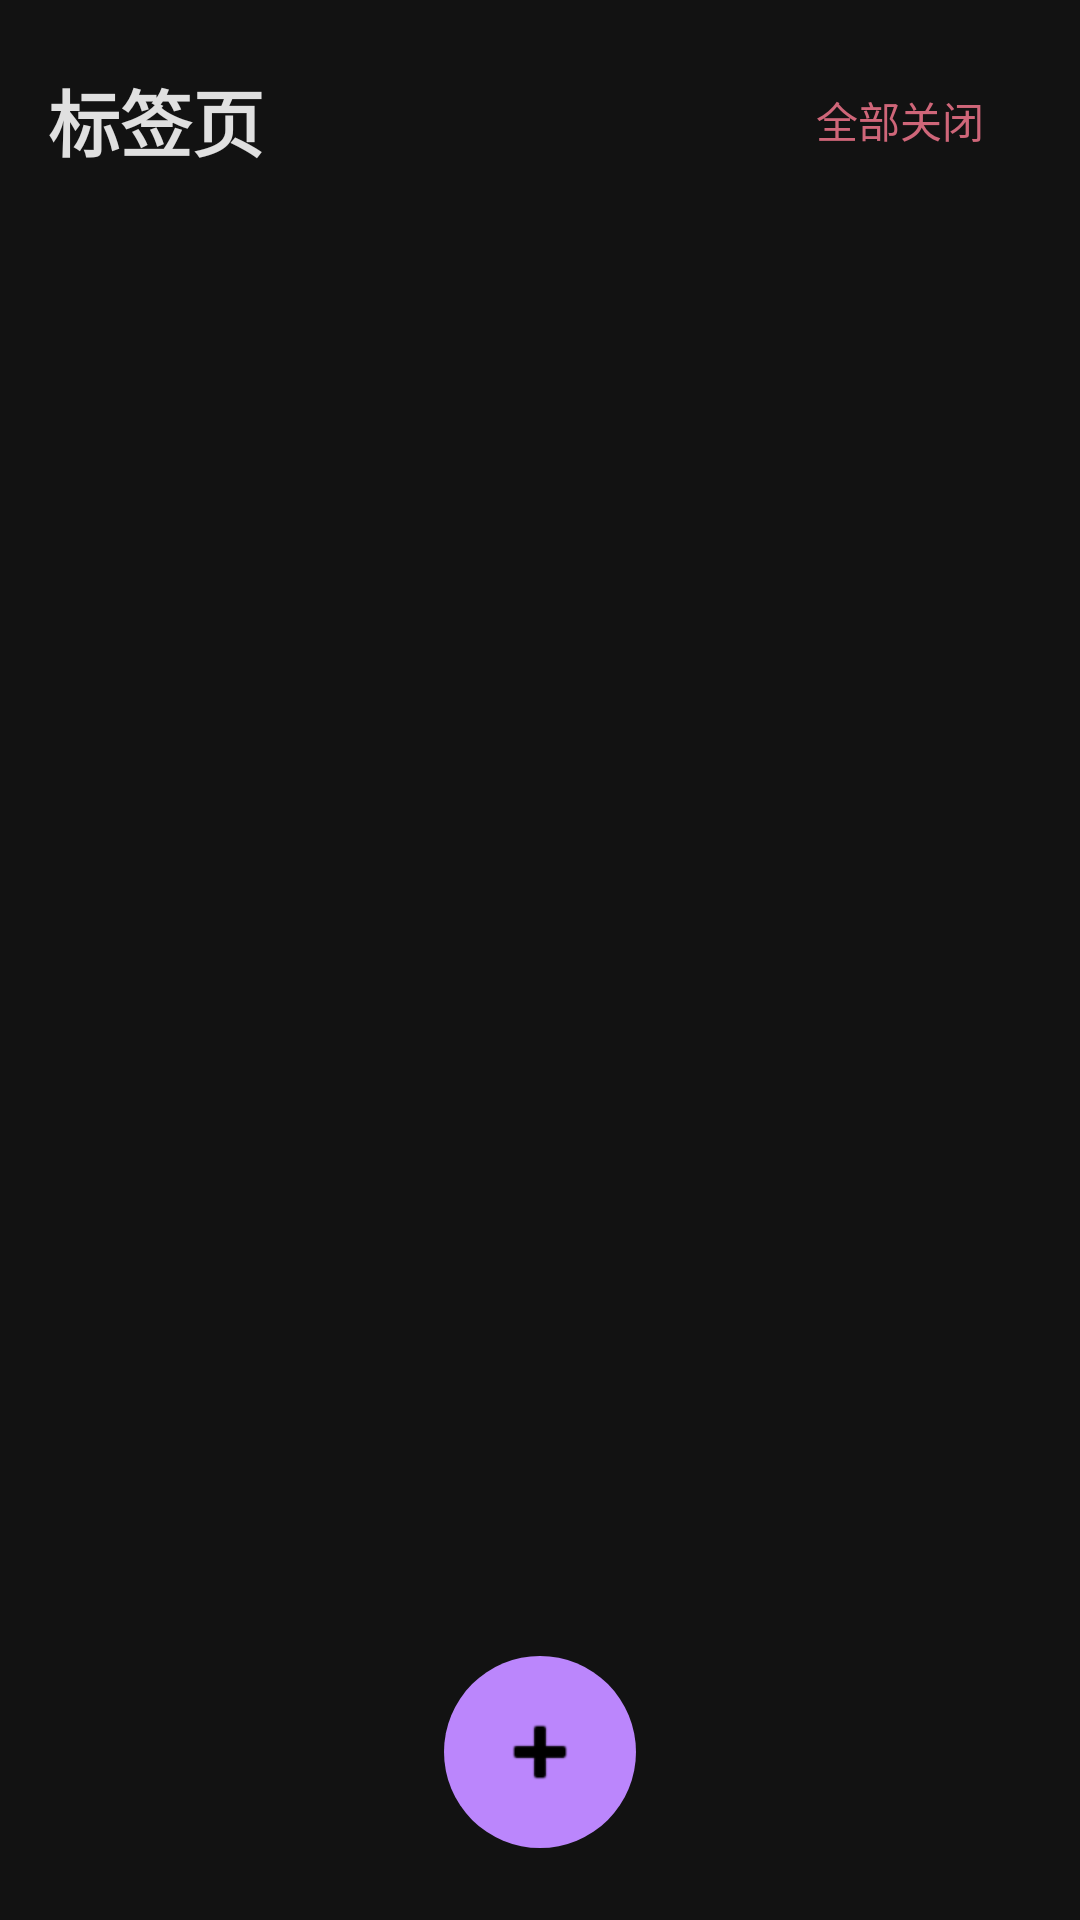

Icon bounding boxes for this 1080 × 1920 phone screenshot, format (x1, y1, x2, y2):
新建标签: (444, 1656, 636, 1848)
